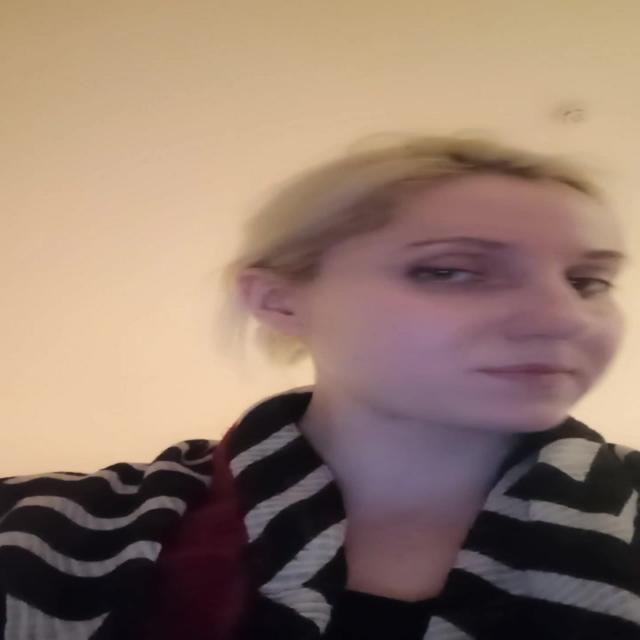earlobe: (276, 312, 305, 338)
eye: (407, 266, 488, 284), (559, 276, 610, 294)
nose: (503, 326, 601, 361)
wholeear: (237, 267, 306, 337)
